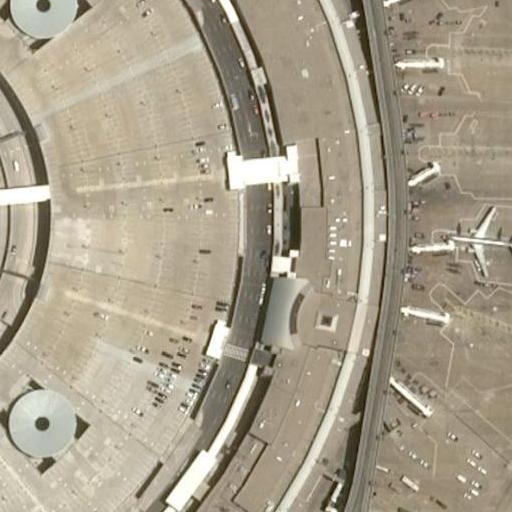Aircraft: (444, 199, 512, 275)
